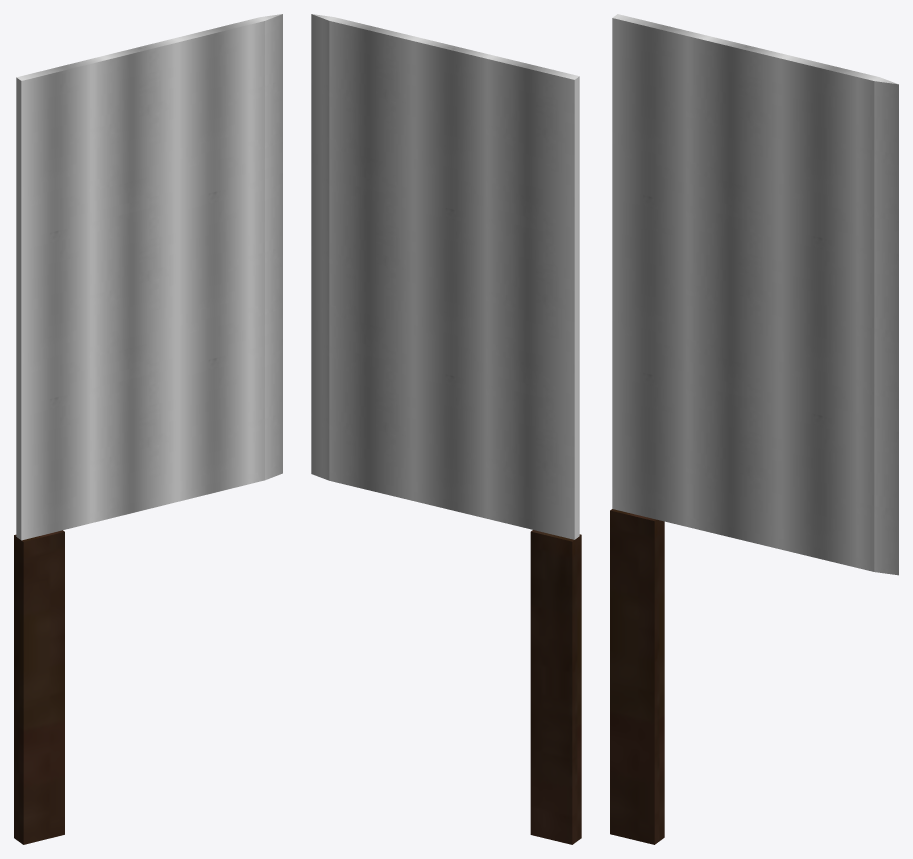
Rendered from knife 1.dae.
The picture shows the model from 3 angles, left to right: view 1: azimuth 30°, elevation 25°; view 2: azimuth 150°, elevation 25°; view 3: azimuth 330°, elevation 25°; orthographic projection. The views are drawn at different scales.
Parts seen in each view (by area): view 1: SketchUp, SketchUp_001; view 2: SketchUp, SketchUp_001; view 3: SketchUp, SketchUp_001.
Boxes of the visible parts, <box> form: SketchUp: <box>16,14,282,540</box>; SketchUp_001: <box>14,530,64,844</box>; SketchUp: <box>311,14,579,539</box>; SketchUp_001: <box>530,530,581,844</box>; SketchUp: <box>612,14,898,575</box>; SketchUp_001: <box>610,509,664,844</box>.
Size of the model in its own units: 0.1693 by 0.0105 by 0.4658.
2 materials, 2 textured.
